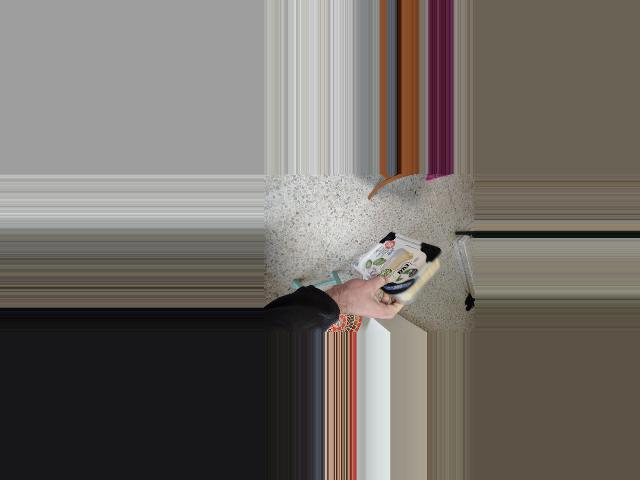cheese: (363, 221, 441, 326)
